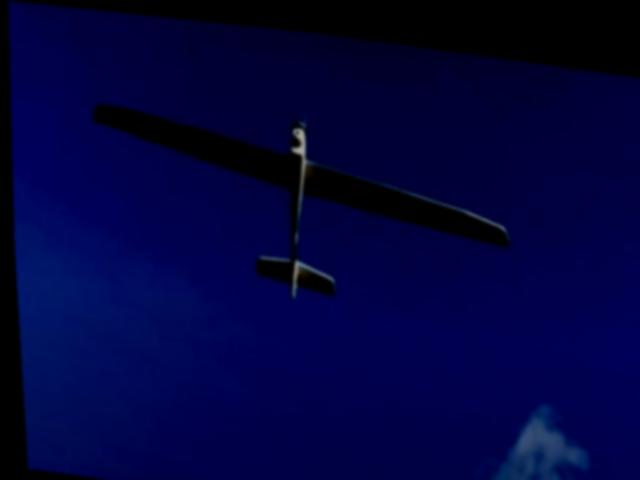iha: (83, 85, 518, 318)
